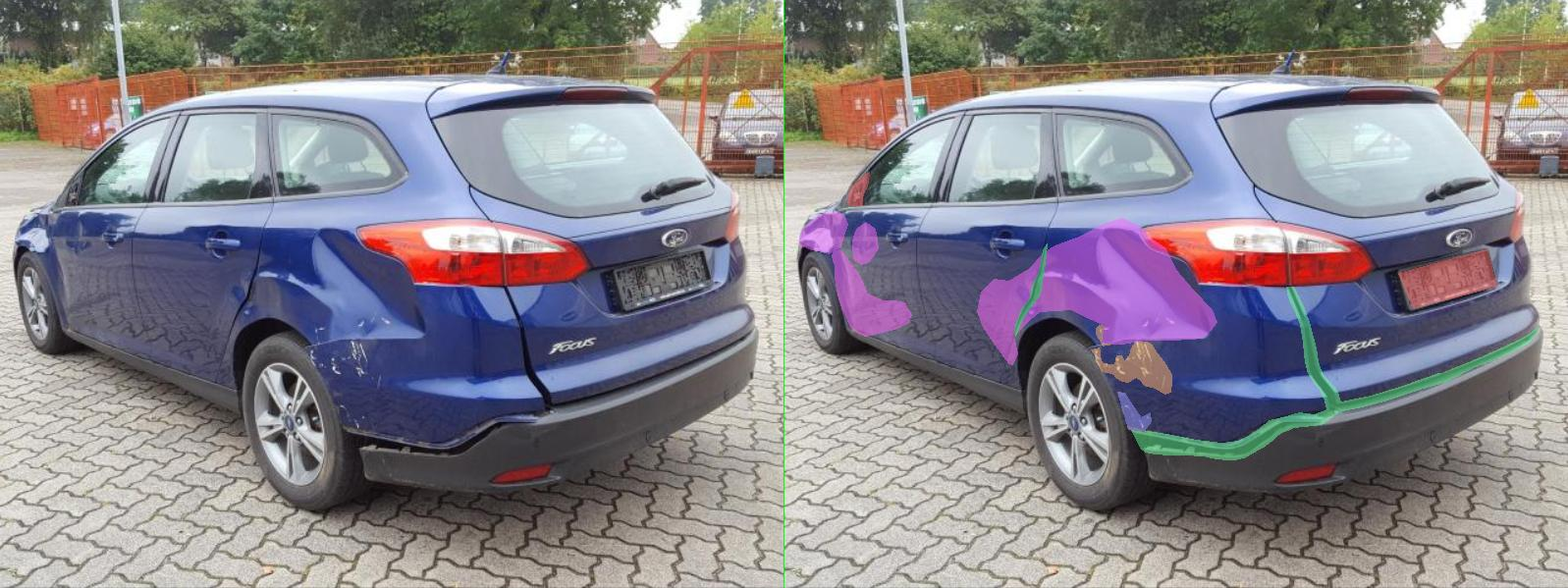Broken part: (692, 287, 1509, 459), (460, 243, 525, 336)
Dent: (385, 218, 865, 364), (94, 249, 253, 336), (29, 212, 126, 253), (136, 222, 187, 264)
Missing part: (1228, 249, 1425, 308), (126, 172, 169, 205)
Paint chip: (613, 342, 774, 394), (623, 323, 664, 346), (737, 312, 758, 325), (711, 317, 731, 328), (764, 317, 786, 326)
Scratch: (666, 392, 733, 431)
